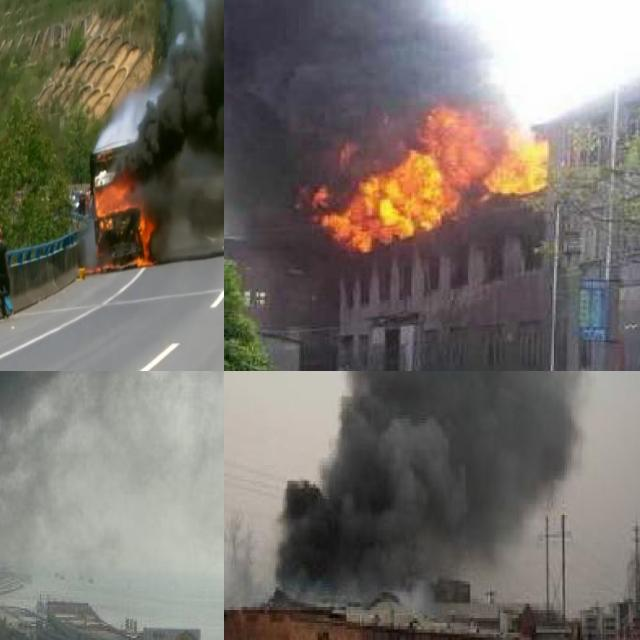fire: (306, 106, 549, 250), (84, 178, 154, 272)
smoke: (224, 371, 587, 610), (224, 0, 468, 151), (0, 371, 224, 519), (126, 0, 224, 241)
